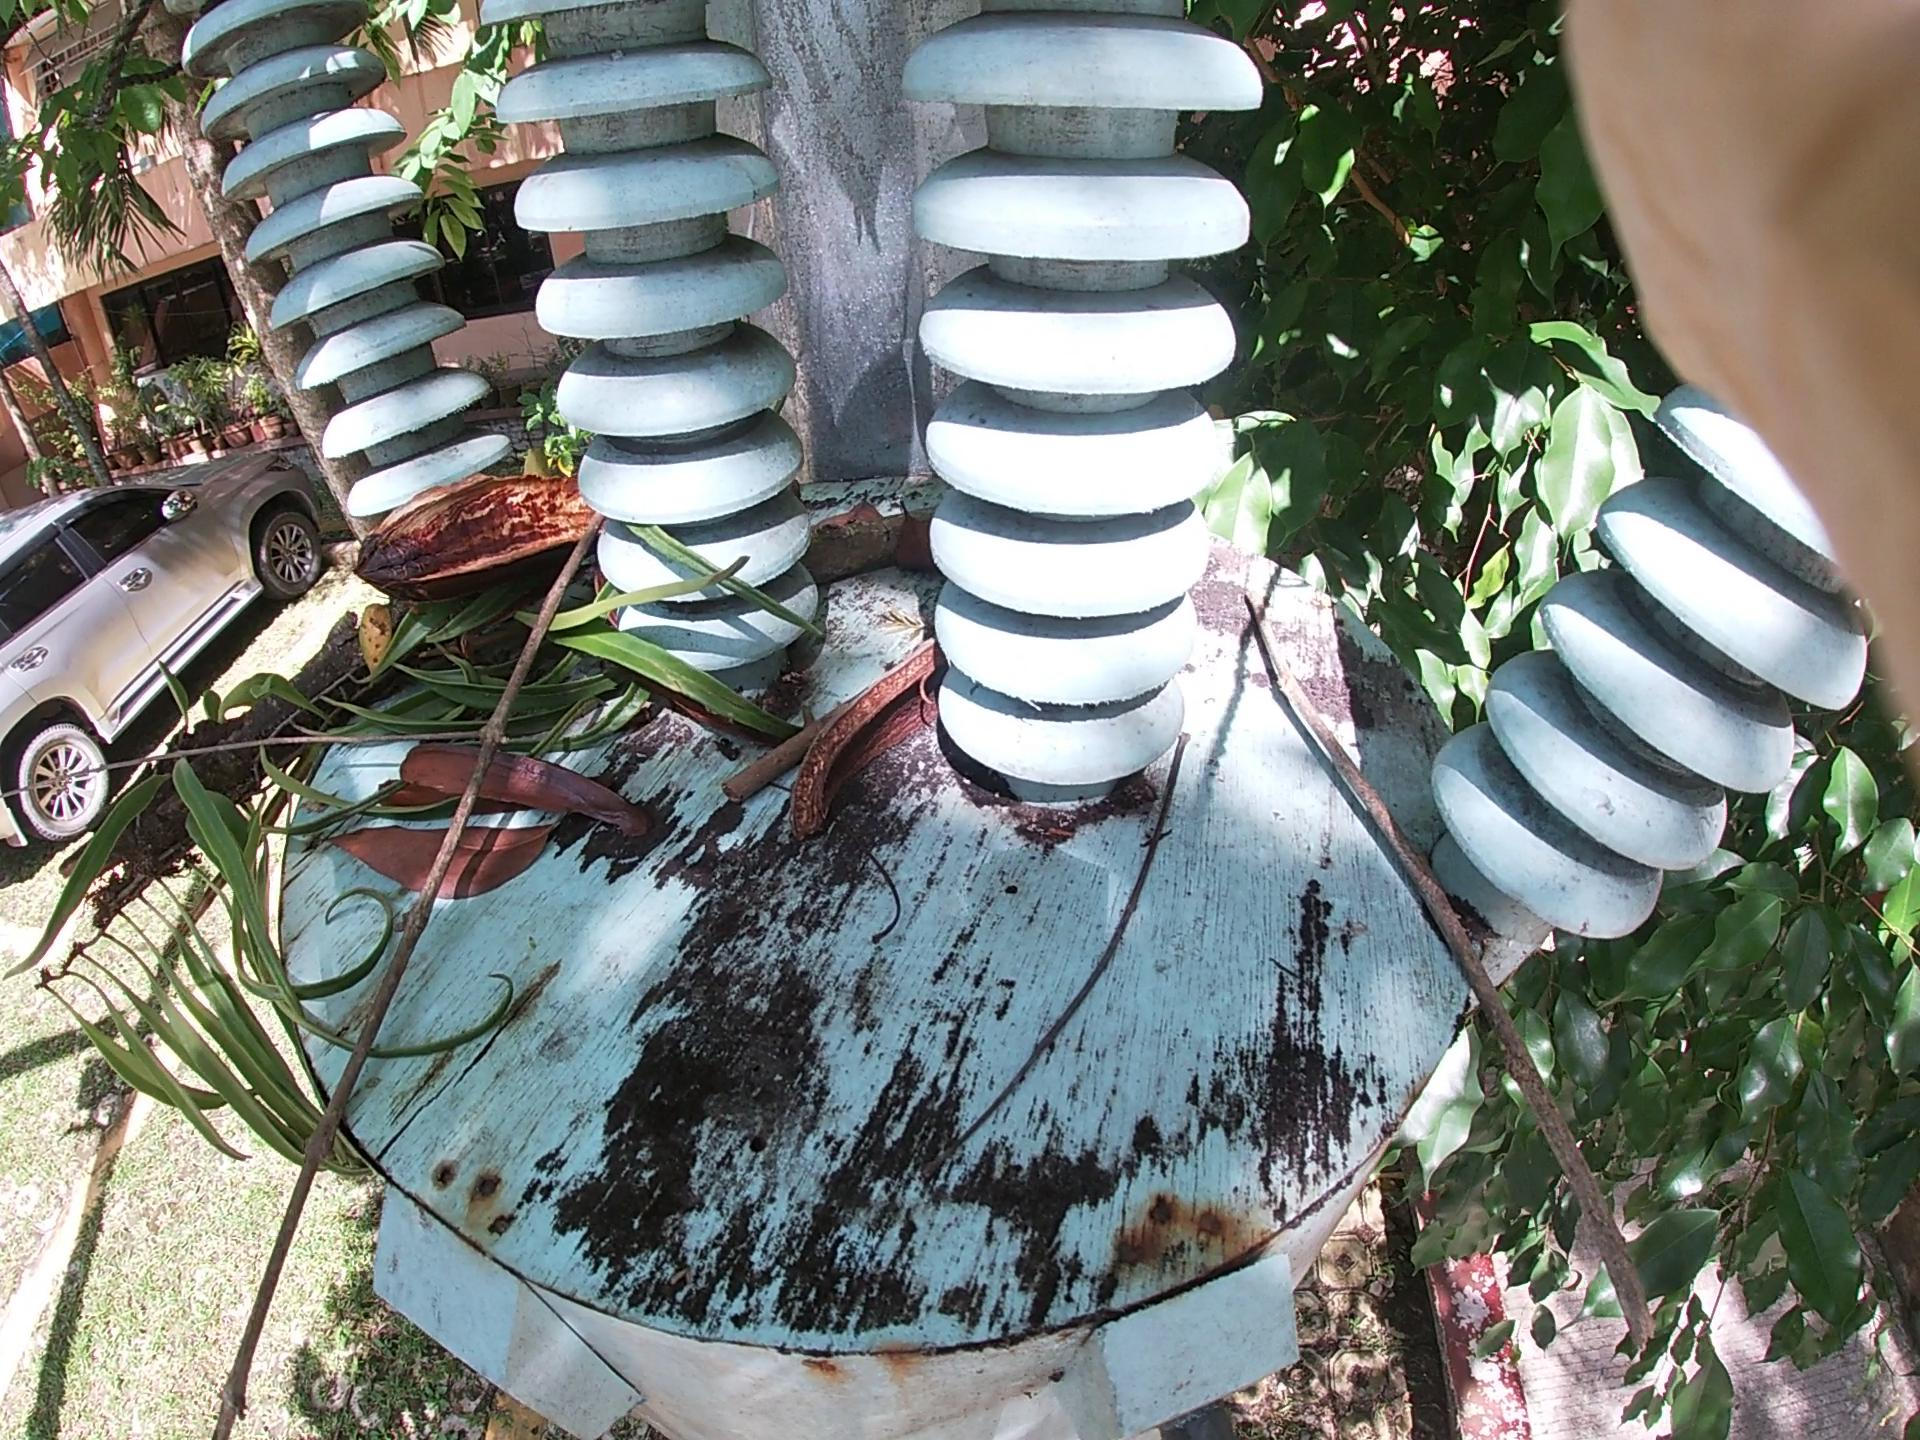branch with leaves: (218, 446, 593, 1423)
leaf: (314, 694, 594, 991)
mahogany fruit: (765, 579, 977, 905), (292, 396, 562, 604)
tree branch: (1234, 641, 1619, 1283), (658, 549, 1161, 829), (931, 690, 1166, 1171)
